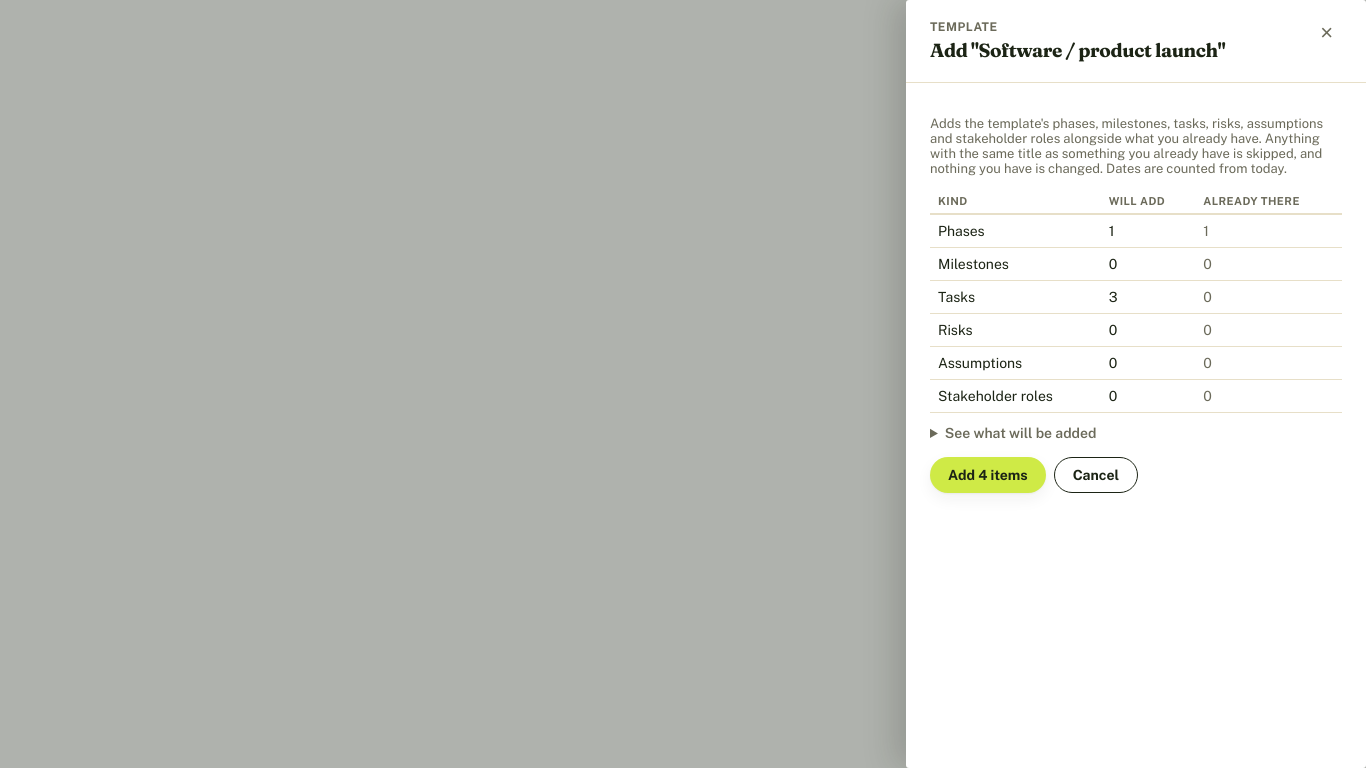
Test: ApplyTemplateDrawer › previews first, then writes only after the button is clicked
Click the button "Add 4 items" at (988, 475), box [930,457,1046,493]
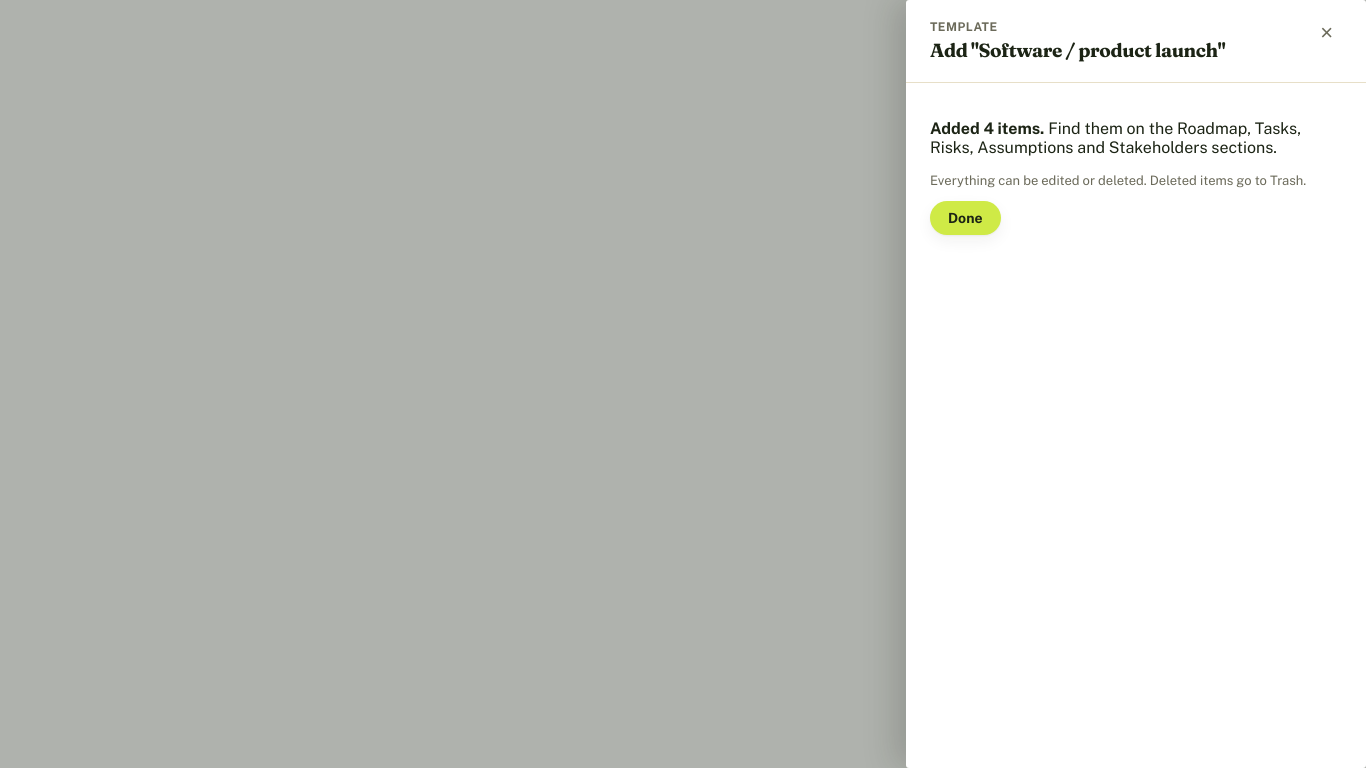
Check: the text "Added 4 items" is shown, box [930,119,1044,138]
